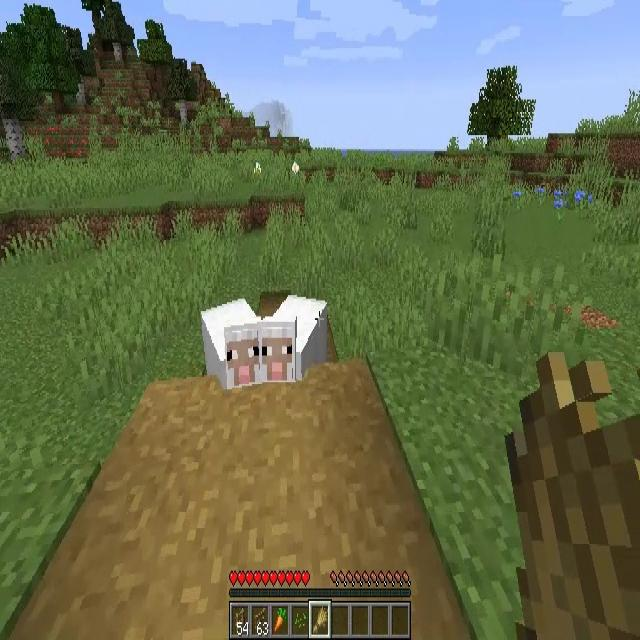flower: (554, 190, 565, 224), (575, 190, 588, 213), (512, 190, 524, 212), (534, 185, 545, 206), (291, 161, 300, 179), (254, 162, 262, 180)
sheep: (261, 298, 328, 384), (202, 297, 260, 384)
